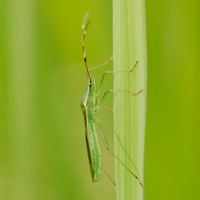insect: (81, 3, 146, 199)
